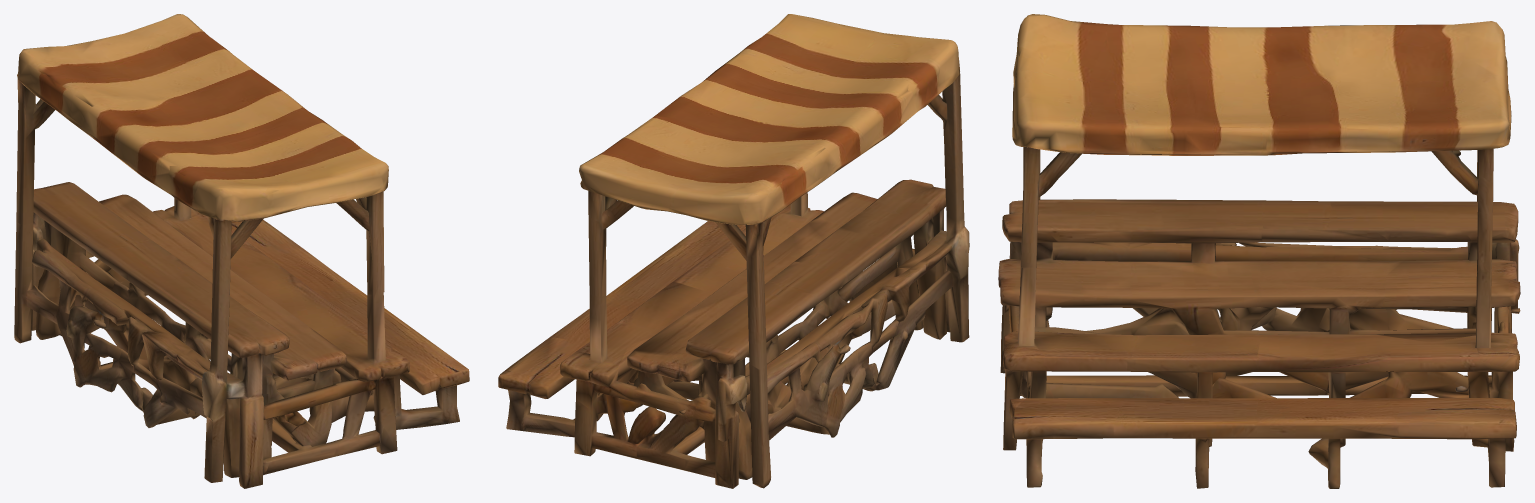
File: grandstand.glb
The picture shows the model from 3 angles, left to right: view 1: azimuth 30°, elevation 25°; view 2: azimuth 150°, elevation 25°; view 3: azimuth 270°, elevation 25°; orthographic projection. The views are drawn at different scales.
Visible parts, largest first — view 1: tripo_node_e001881b-a271-403b-a3a3-8f64da68822a; view 2: tripo_node_e001881b-a271-403b-a3a3-8f64da68822a; view 3: tripo_node_e001881b-a271-403b-a3a3-8f64da68822a.
Boxes of the visible parts, x1,y1,x2,y2 form: tripo_node_e001881b-a271-403b-a3a3-8f64da68822a: (14, 14, 469, 488); tripo_node_e001881b-a271-403b-a3a3-8f64da68822a: (498, 14, 969, 488); tripo_node_e001881b-a271-403b-a3a3-8f64da68822a: (998, 14, 1520, 488).
Bounding box in the file's own units: 3.16 × 3.5 × 4.79.
1 material, 1 textured.
